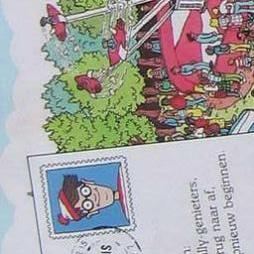waldos: (56, 161, 129, 227)
